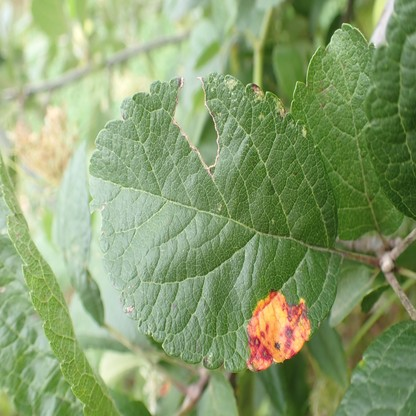rust: (248, 290, 313, 371)
